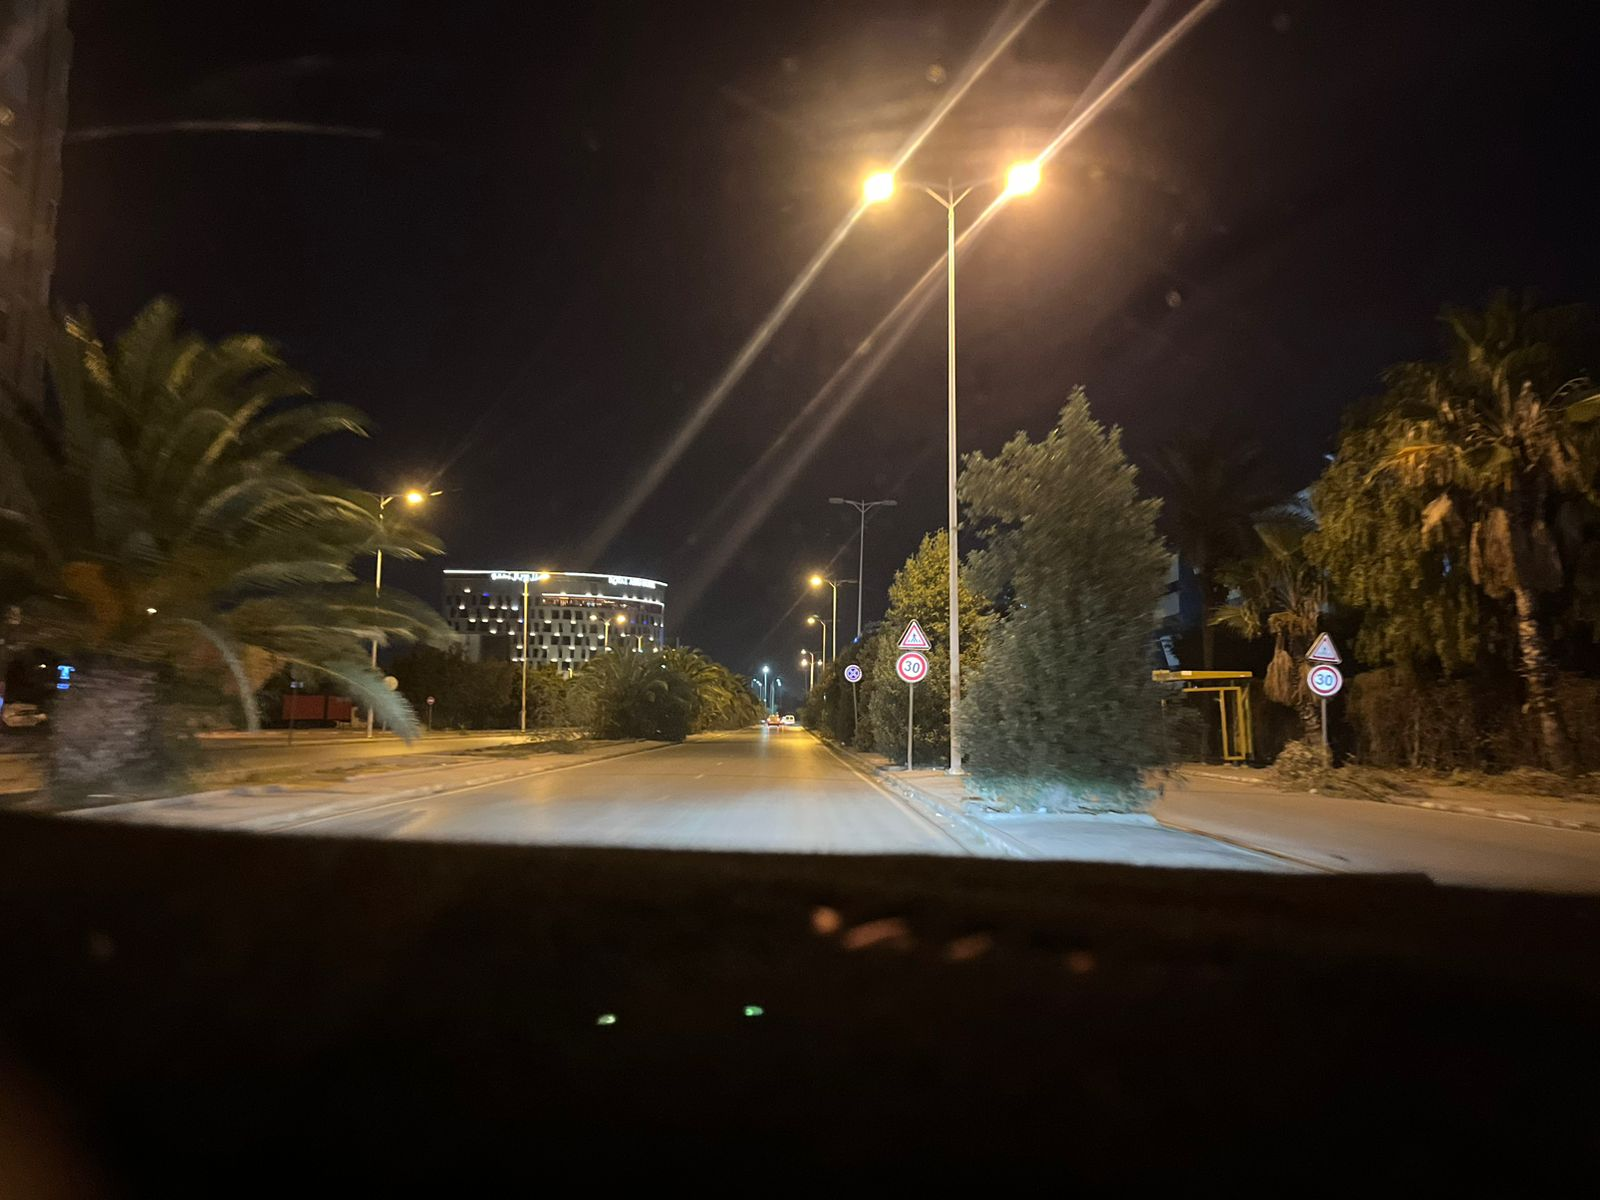SpeedLimit30: (896, 650, 930, 684)
